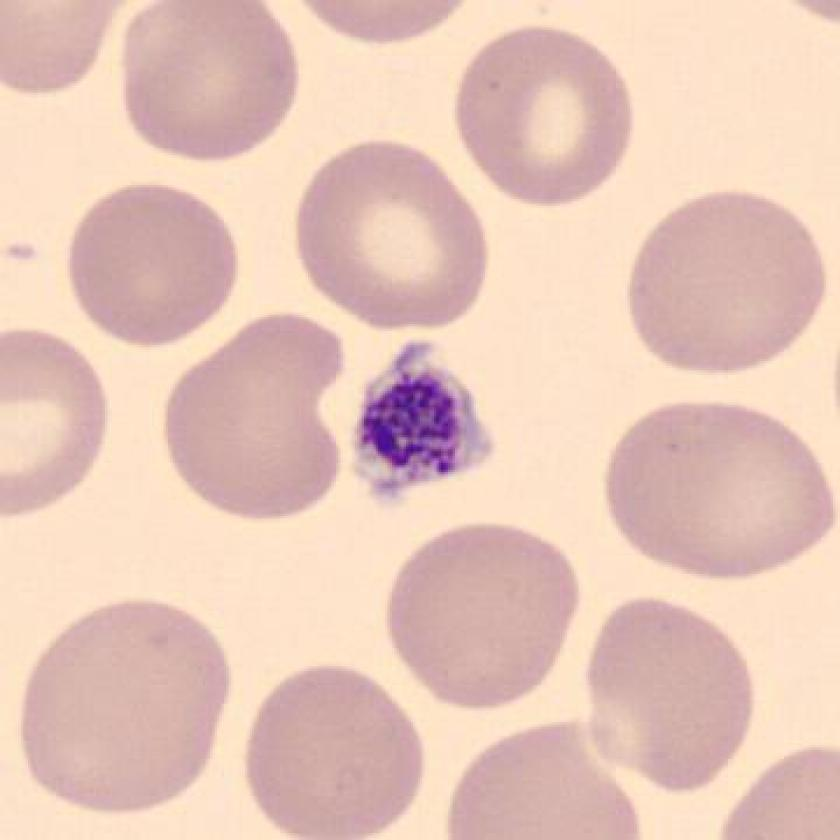platelets: (342, 341, 503, 517)
